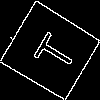T: (25, 26, 79, 76)
